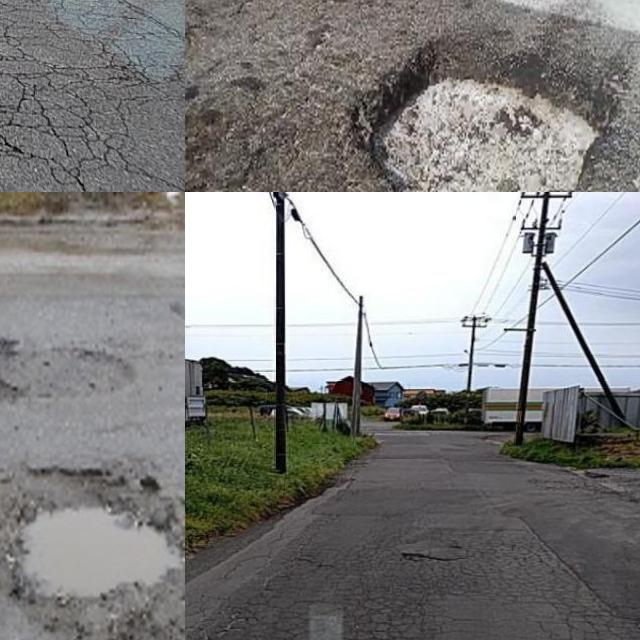Lubang: (371, 39, 621, 192), (0, 471, 185, 605), (0, 333, 127, 404)
Retak Buaya: (207, 517, 618, 640), (0, 0, 185, 192)
